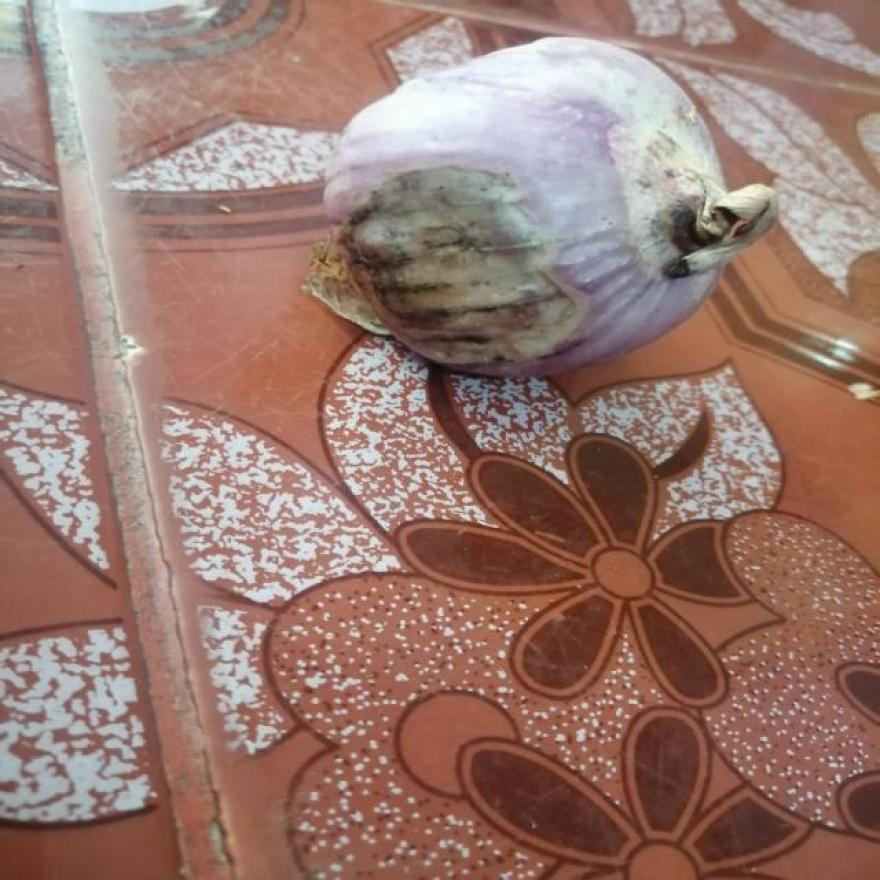Rotten: (353, 197, 535, 350)
